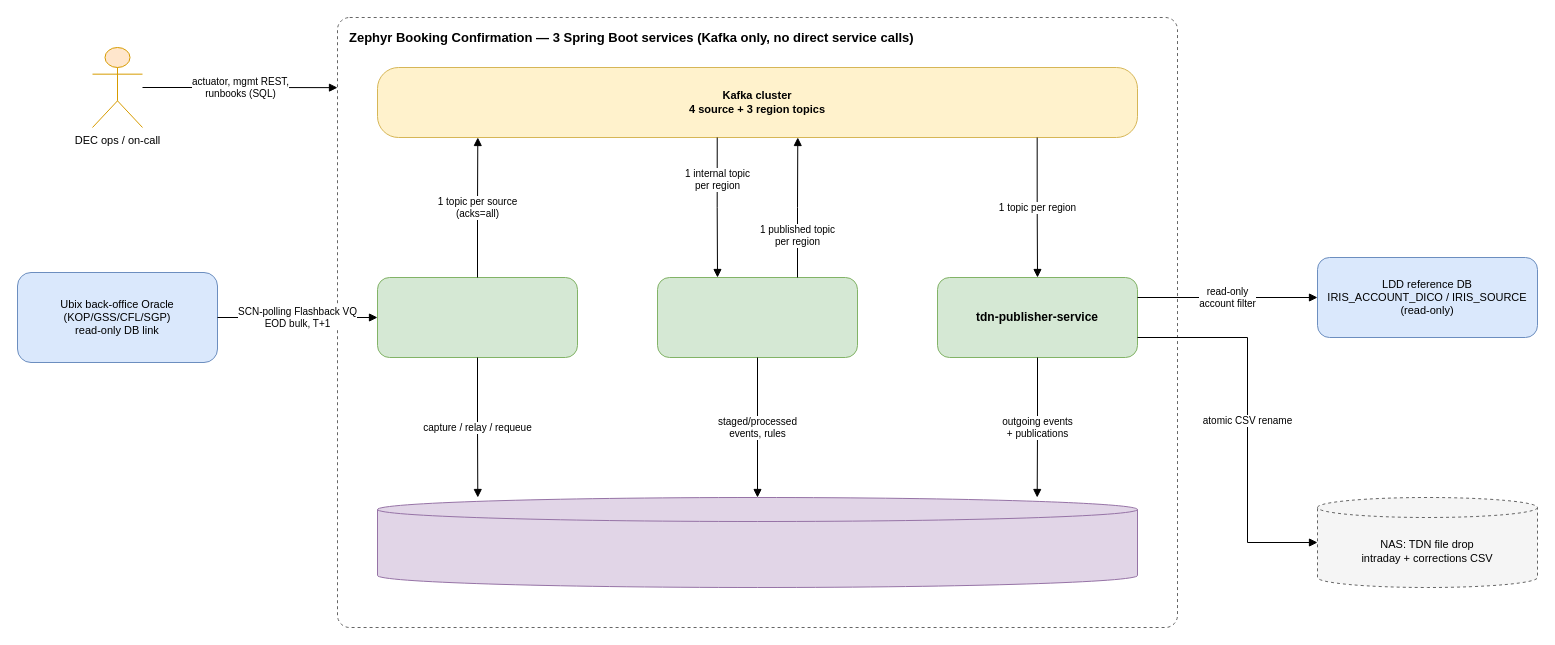
Image size: 1555x645. Some labels were removed from this diagram. Each missing label, with the centre of its shape:
capture-service: point 477,317
processor-service: point 757,317
Zephyr Oracle schema inboxes/outboxes, locks, rules, checkpoints: point 757,542
